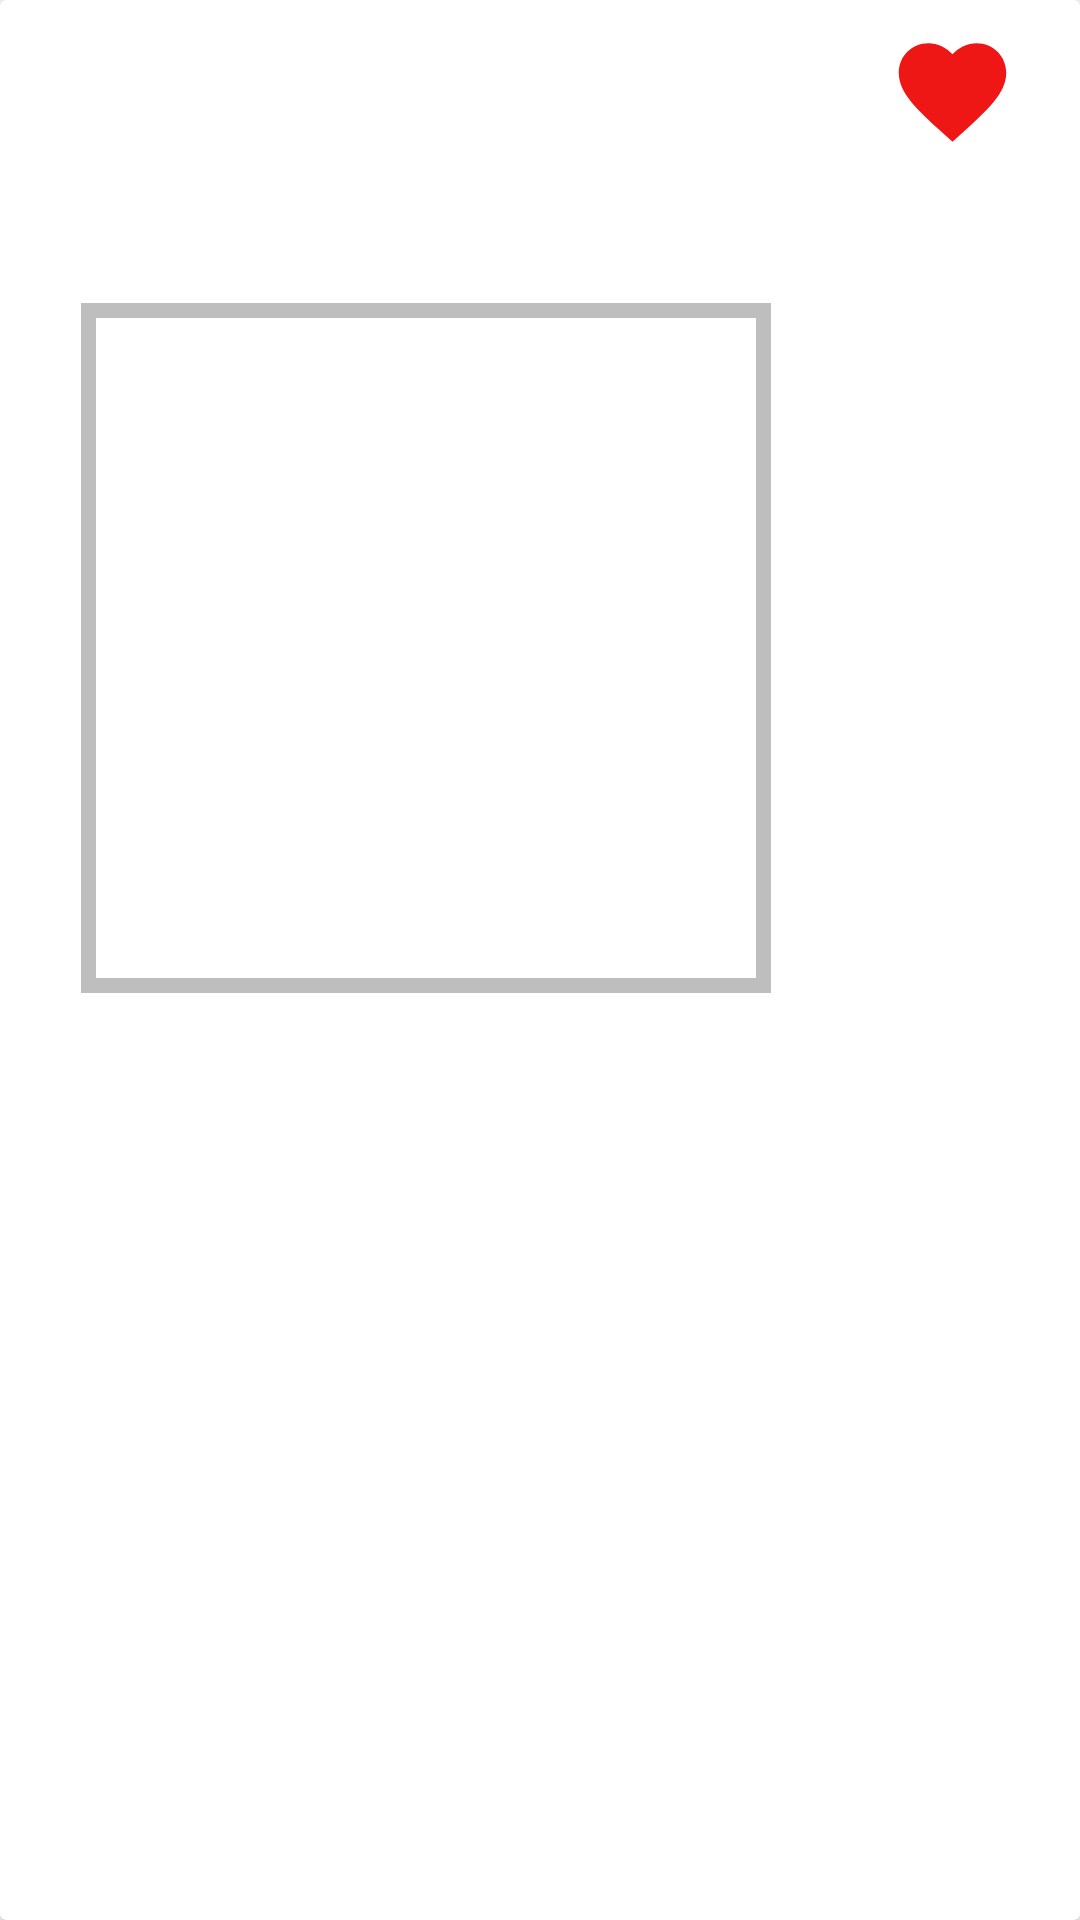

Where icons sit on this 1080x1920 app screen, as (x1, y1, x2, y2):
favorite: (898, 43, 1007, 142)
